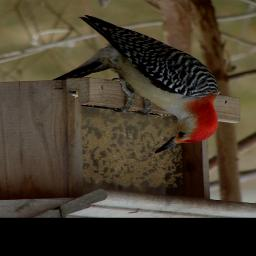Woodpecker: (63, 20, 227, 155)
